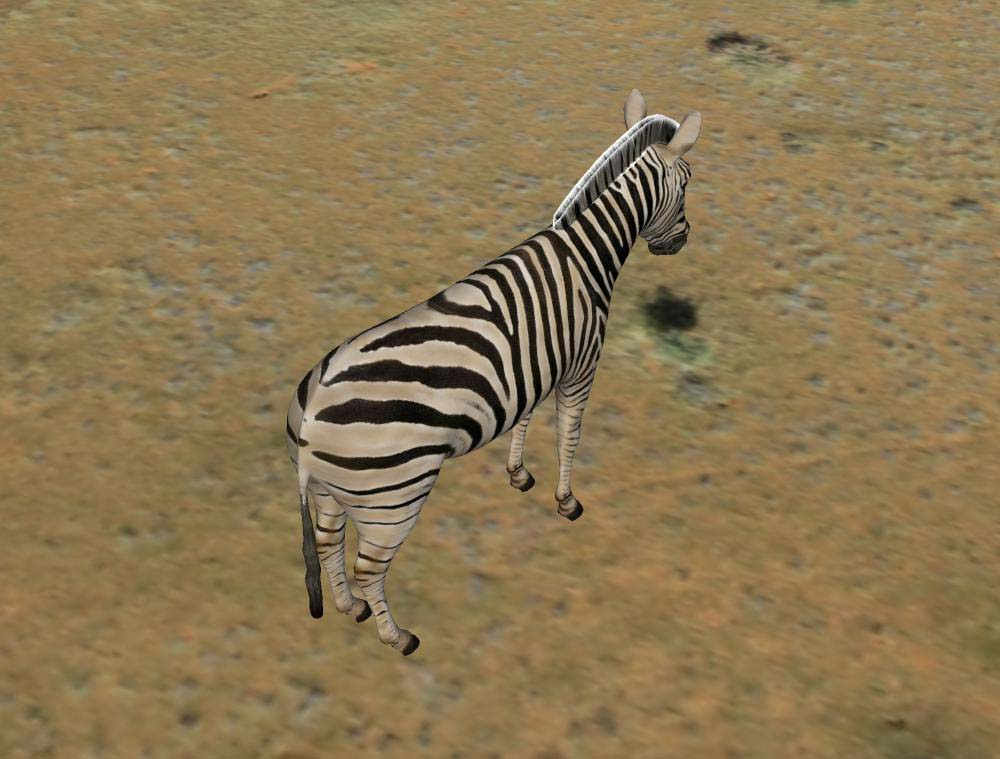zebra: (290, 86, 701, 658)
